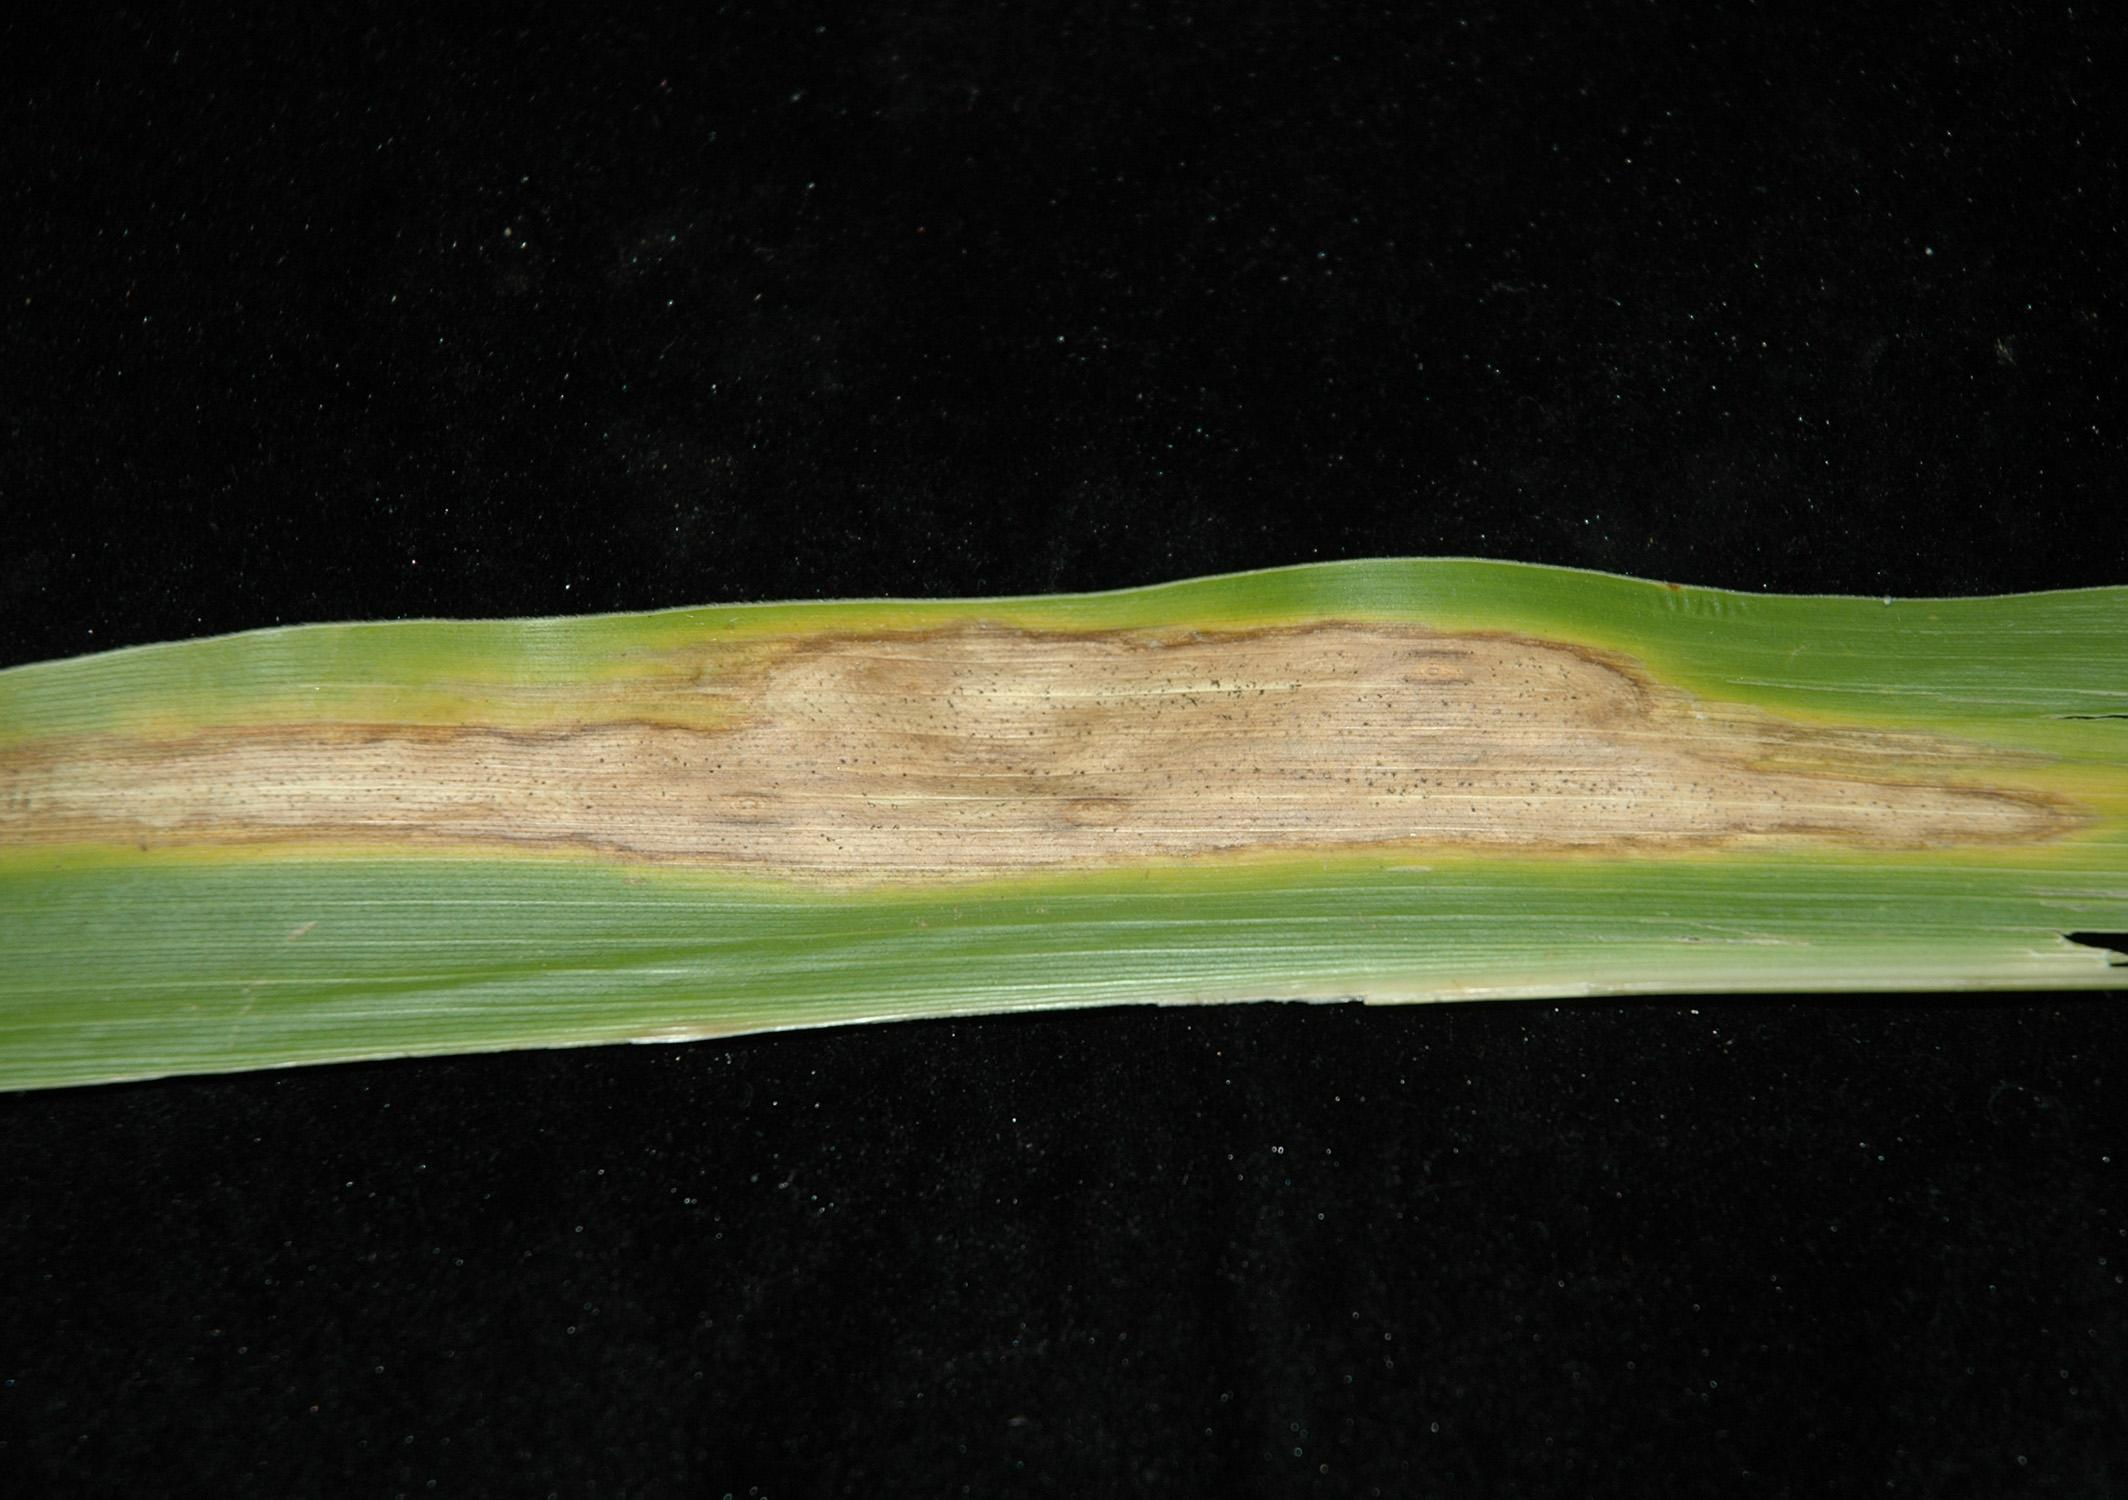Corn leaf blight: (3, 565, 2126, 1057)
